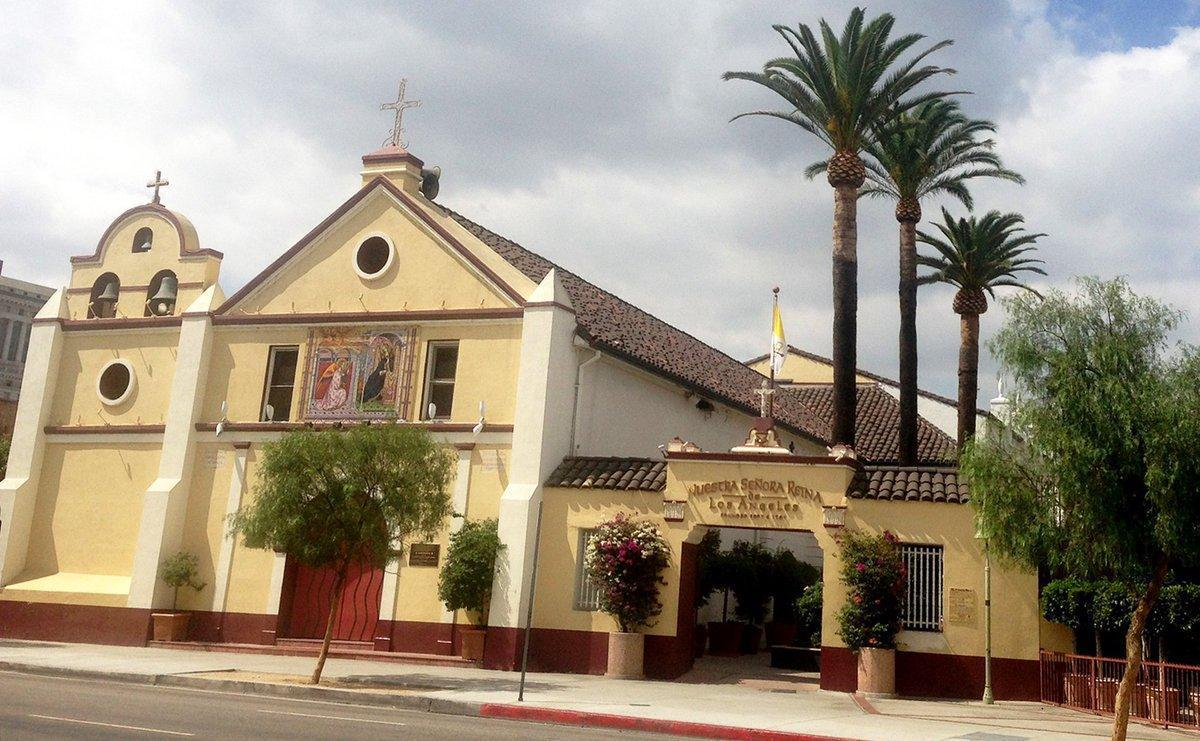affected: (53, 140, 1094, 696)
